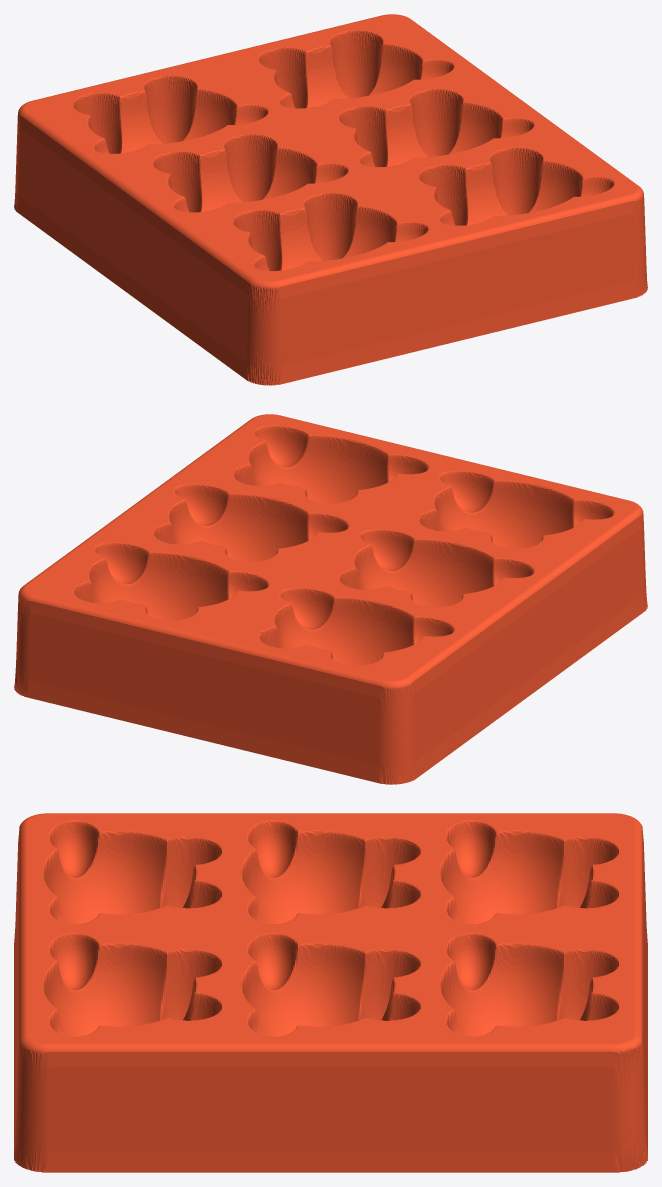
The model's file is mold.glb.
3 renders of one model, top to bottom at view 1: azimuth 30°, elevation 25°; view 2: azimuth 150°, elevation 25°; view 3: azimuth 270°, elevation 25°, orthographic. The views are drawn at different scales.
Parts seen in each view (by area): view 1: geometry_0; view 2: geometry_0; view 3: geometry_0.
Boxes of the visible parts, x1,y1,x2,y2 form: geometry_0: (14, 14, 647, 385); geometry_0: (14, 414, 647, 784); geometry_0: (14, 813, 647, 1172).
Bounding box in the file's own units: 0.1499 × 0.0357 × 0.1666.
